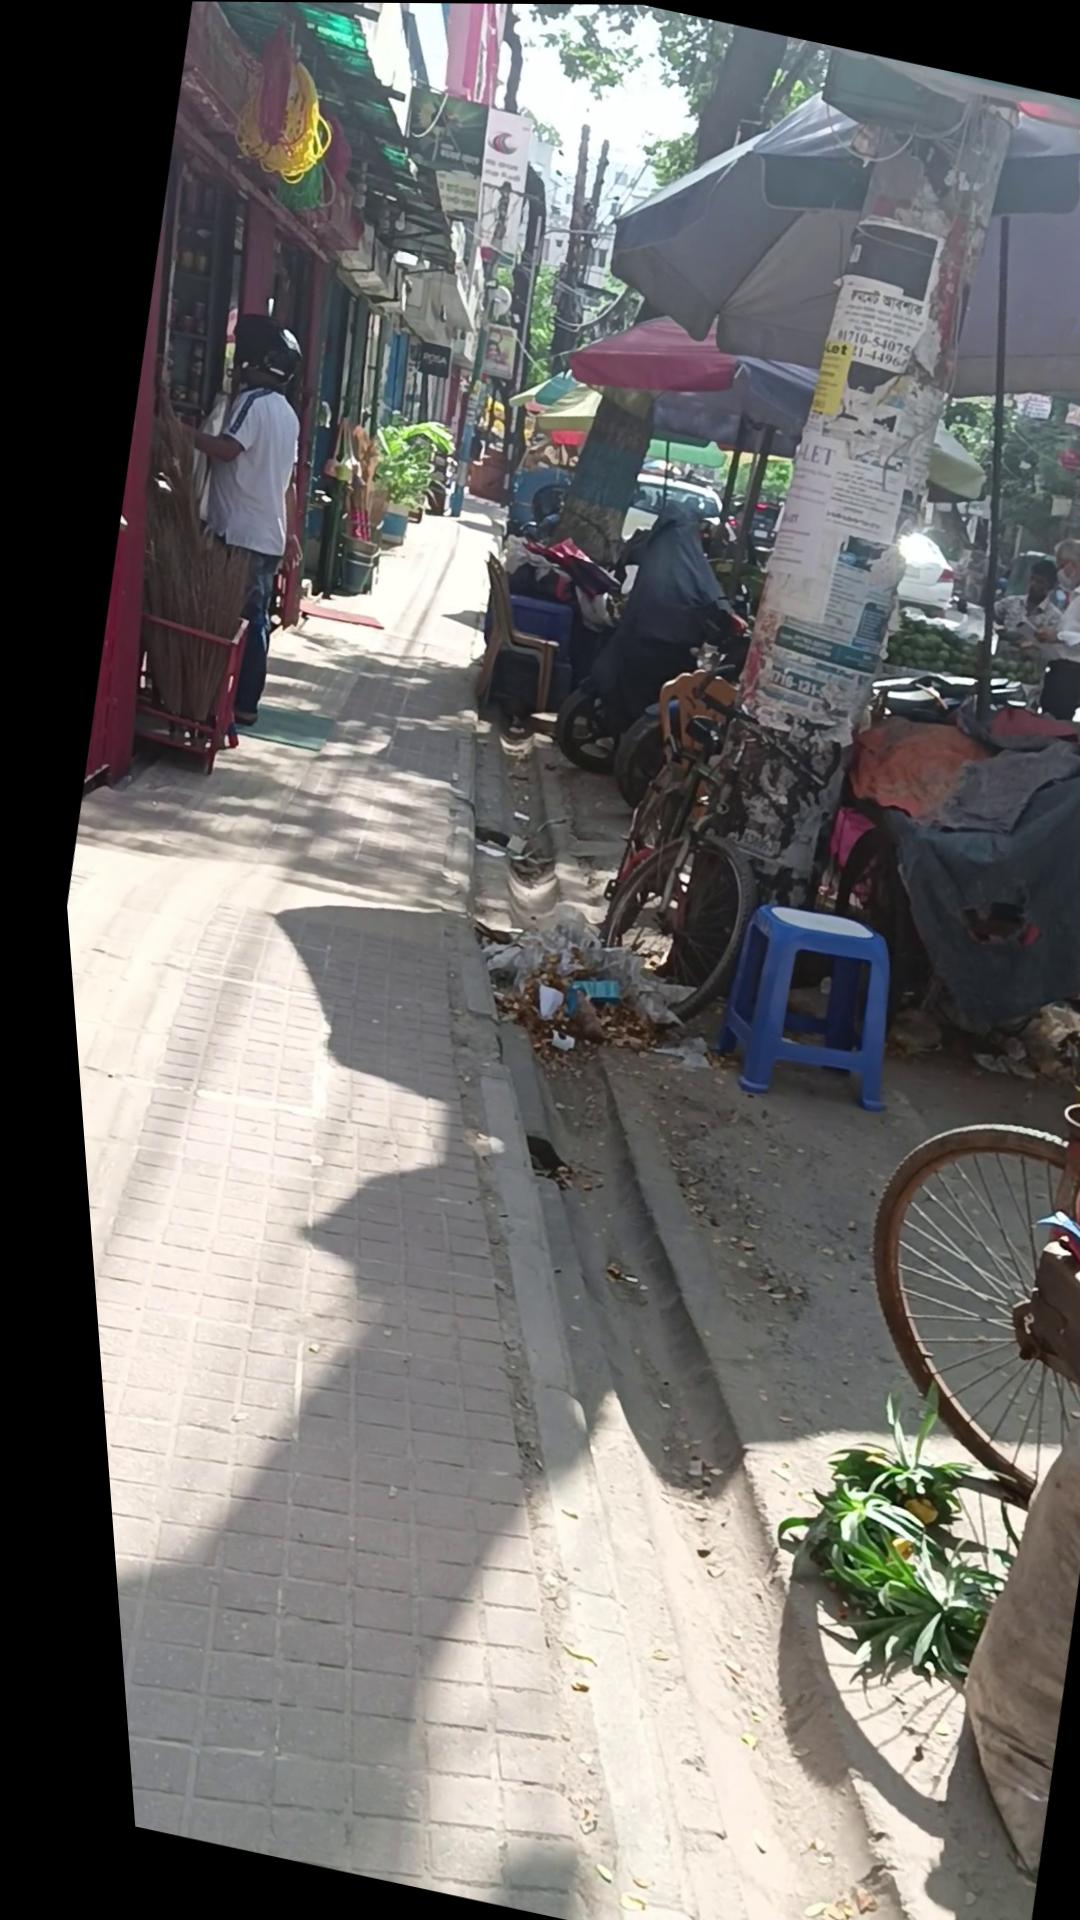Broken-road: (214, 723, 1080, 1920)
Cat: (473, 587, 576, 715), (320, 531, 375, 597)
Crosswalk: (680, 889, 905, 1118), (98, 593, 253, 781)
Curb: (102, 298, 340, 732), (985, 527, 1080, 728)
Dog: (601, 54, 1054, 1038)
Garbage: (25, 436, 866, 1920)
